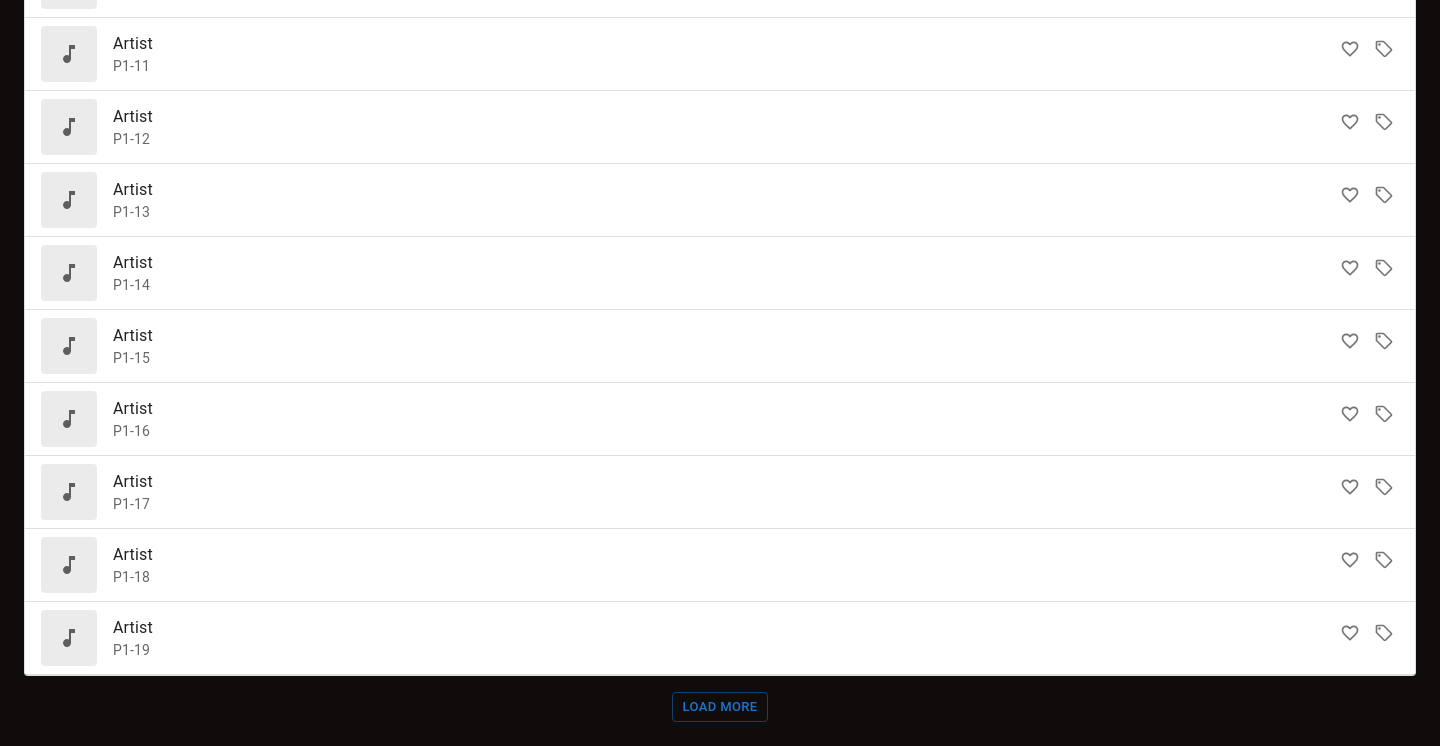
it: ScrobblesPage › pagination › shows a failed loadMore's error inline without discarding the already-loaded list
The image size is (1440, 746).
(page scrolled)
Click the button "Load more" at (720, 707), box [672,692,768,722]
(page scrolled)
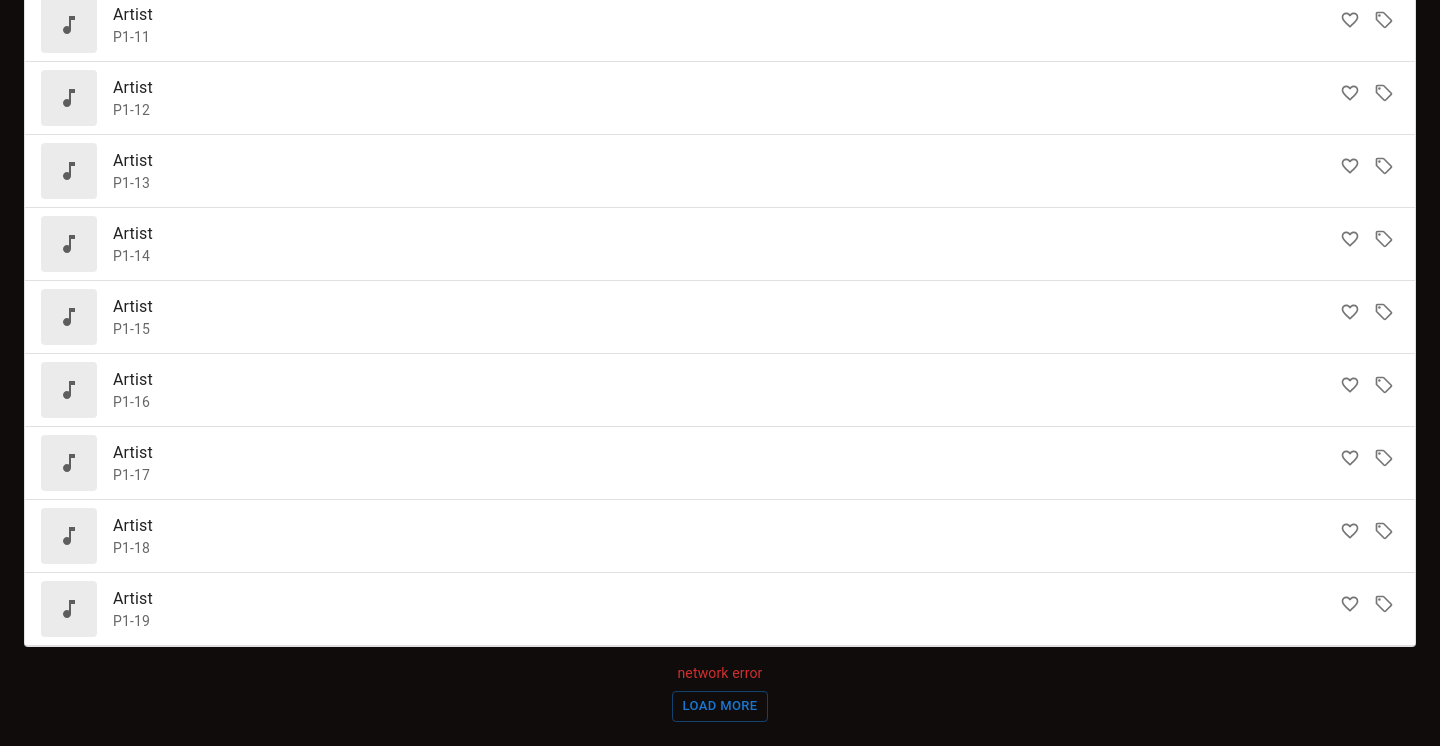
Expected: the text "P1-19" is shown, [113,613,150,629]
Expected: the text "network error" is shown, [678,663,762,683]
